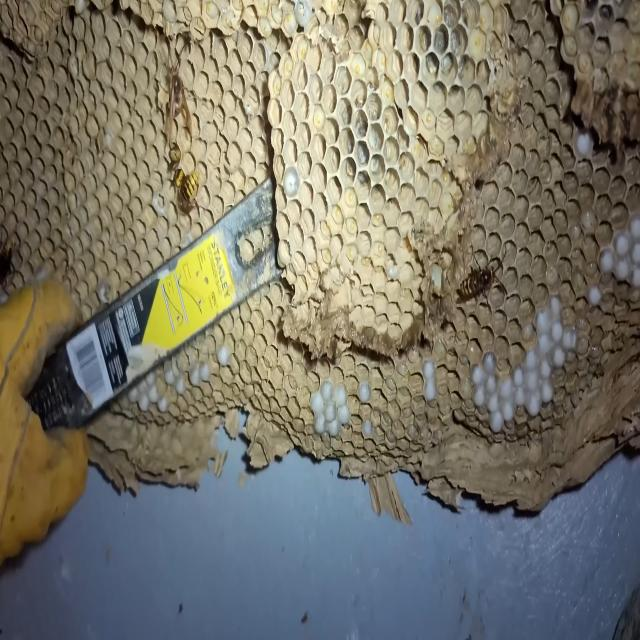Hornets: (160, 45, 193, 147), (458, 248, 509, 305), (173, 166, 202, 217)
